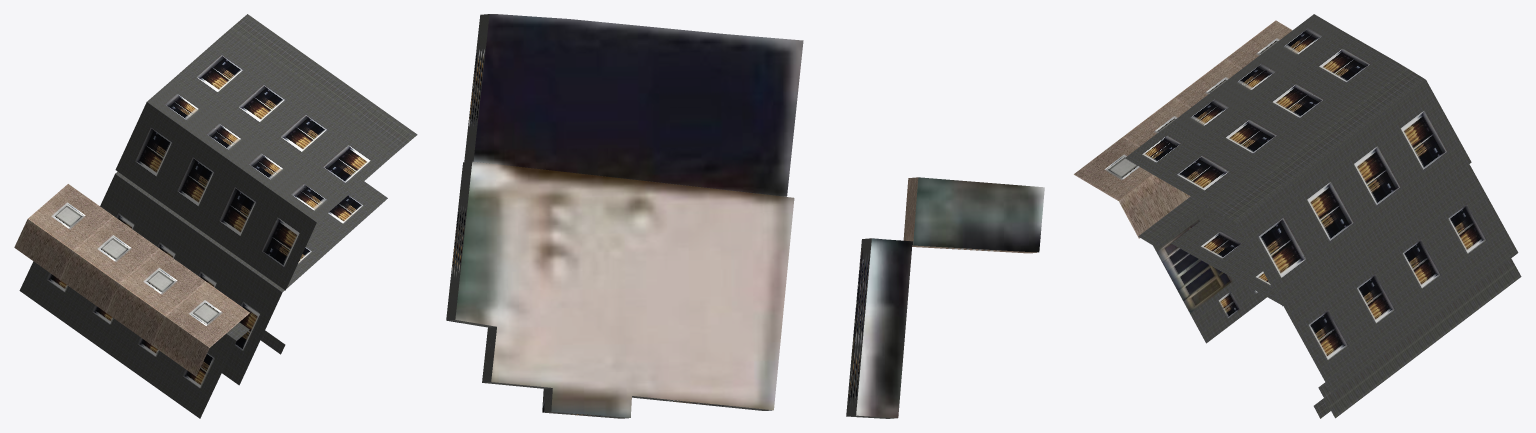
3 renders of one model, left to right at view 1: azimuth 30°, elevation 25°; view 2: azimuth 150°, elevation 25°; view 3: azimuth 270°, elevation 25°, orthographic. The views are drawn at different scales.
Bounding box in the file's own units: 26.1 × 19.37 × 23.24.
12 materials, 12 textured.
